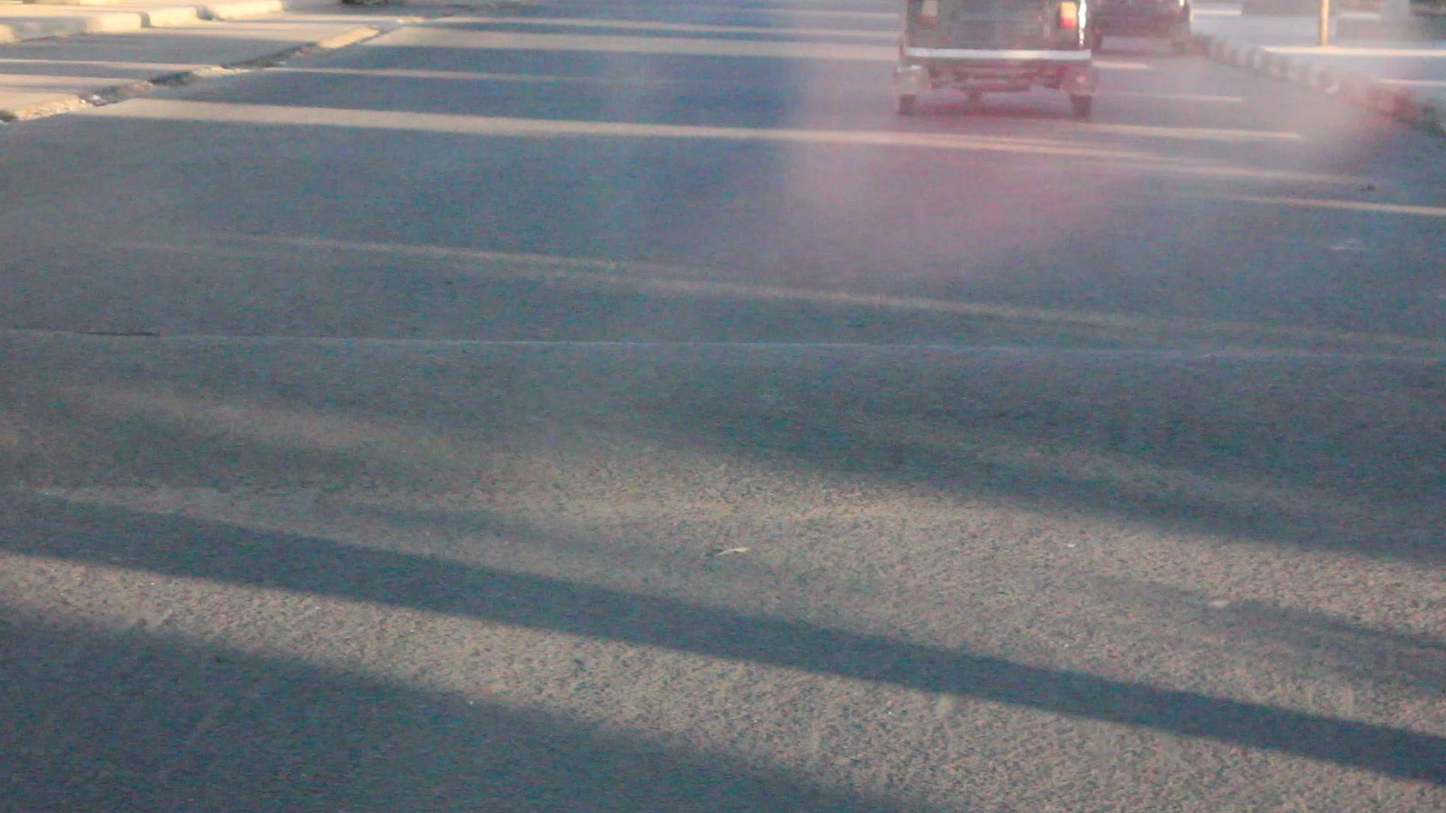Bump: (0, 322, 1446, 531)
